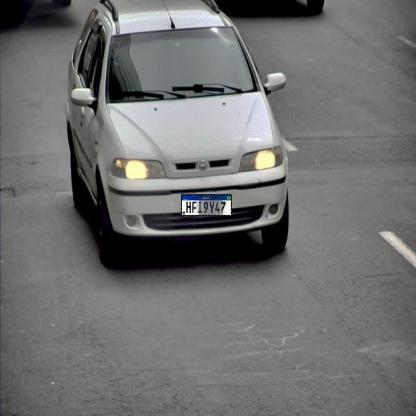PlacaM: (181, 194, 232, 216)
